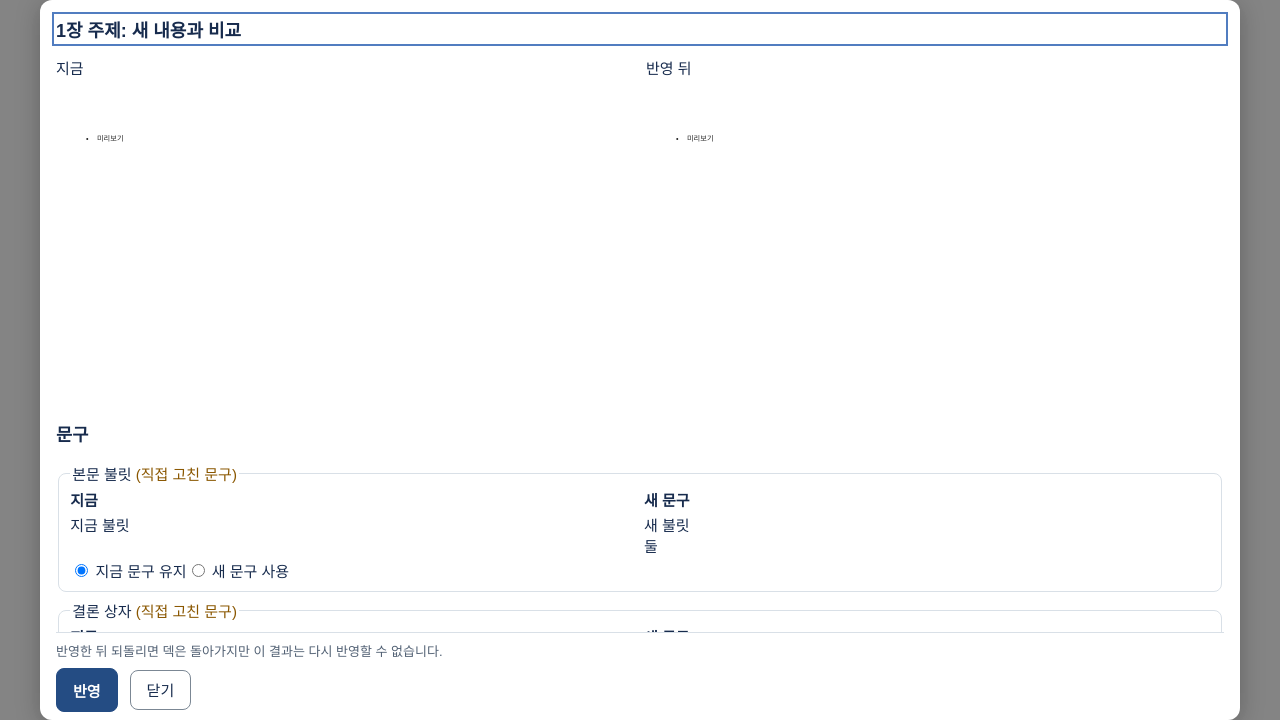
Scenario: 직접 고친 문구 표시와 바뀌는 수는 선택을 따른다 (리뷰 V1, V2)
Expected: the element "결론 상자 (직접 고친 문구)" is shown, [58,600,1222,707]
Expected: the text "새 문구로 바뀝니다" is not shown
Click the radio button labelled "새 문구 사용".
click(198, 571)  # box [192,564,205,577]
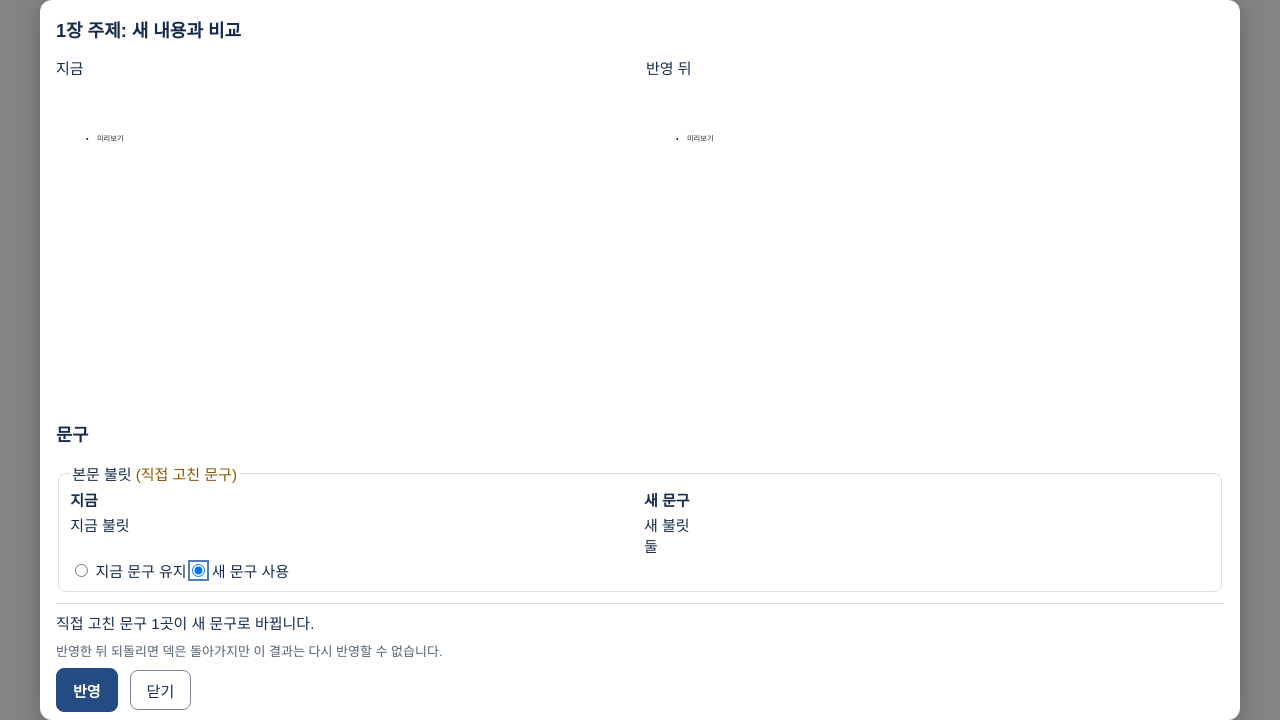
Expected: the text "직접 고친 문구 1곳이 새 문구로 바뀝니다." is shown, [56,615,314,632]
